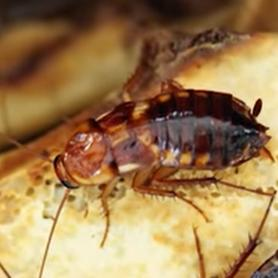cockroach: (48, 86, 272, 205)
